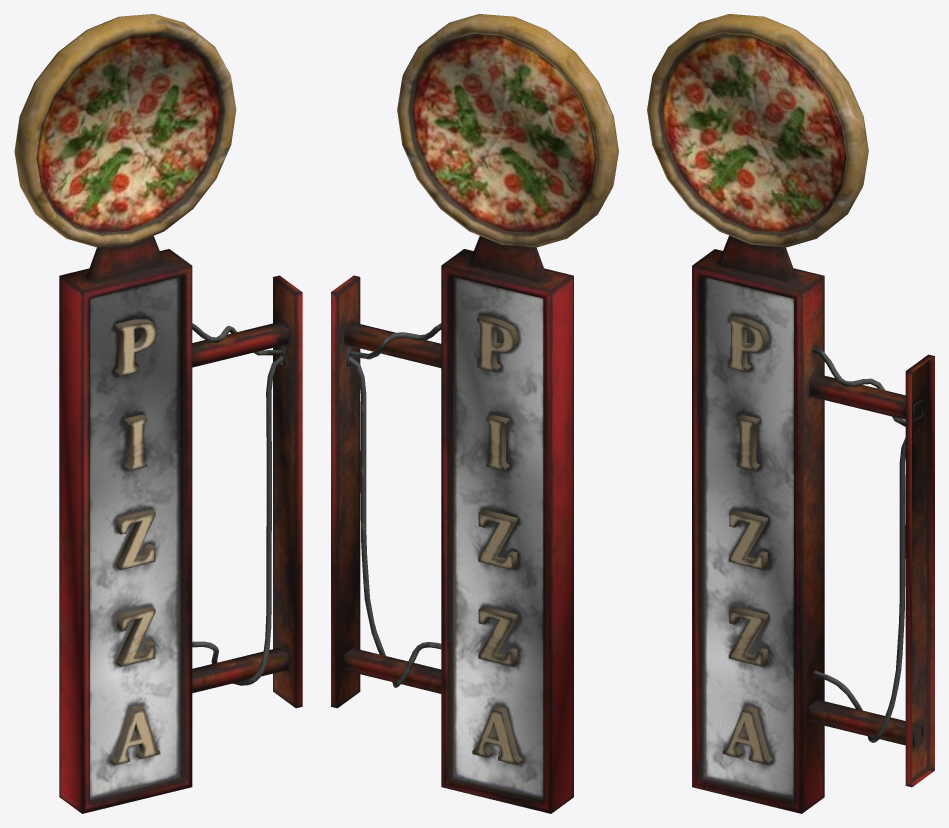
Rendered from z_pizza.glb.
The picture shows the model from 3 angles, left to right: view 1: azimuth 30°, elevation 25°; view 2: azimuth 150°, elevation 25°; view 3: azimuth 330°, elevation 25°; orthographic projection.
Parts seen in each view (by area): view 1: Cube.009; view 2: Cube.009; view 3: Cube.009.
Boxes of the visible parts, x1,y1,x2,y2 form: Cube.009: (14, 14, 302, 813); Cube.009: (331, 14, 618, 813); Cube.009: (647, 14, 934, 813).
Size of the model in its own units: 0.776 by 2.11 by 0.122.
Materials: 1 (1 with a texture image).
